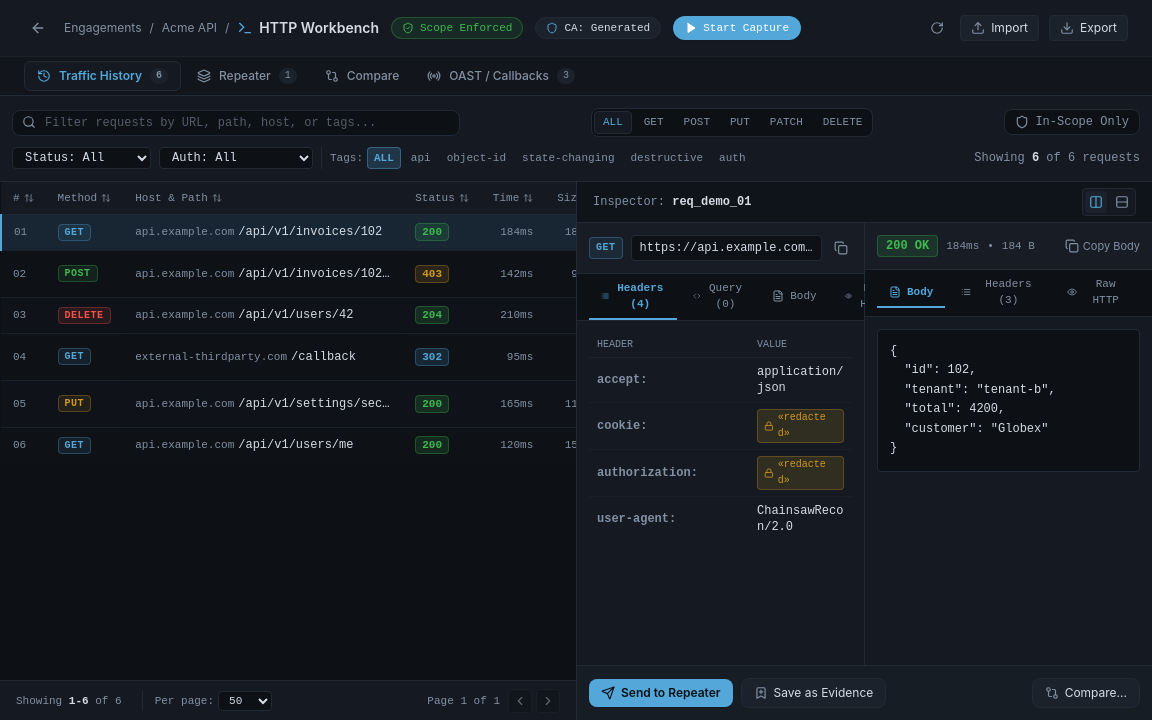
Test: WorkbenchPage (Milestone 3: Native HTTP Workbench) Tests › filters traffic history by In-Scope Only
The image size is (1152, 720).
Expected: the text "/callback" is shown, [291,350,356,364]
Toggle In-Scope Only
Click the button "In-Scope Only": [1072, 122] box [1004,109,1140,135]
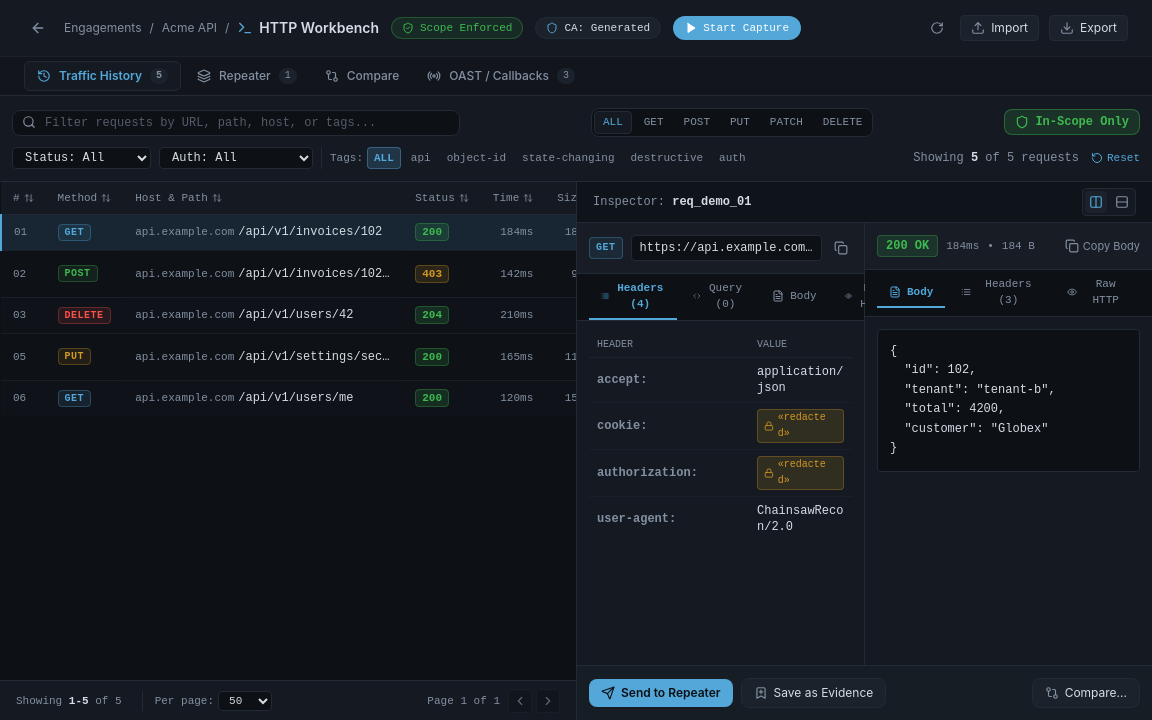
Expected: the text "/api/v1/invoices/102" is shown, [238,225,382,239]
Expected: the text "/callback" is gone
